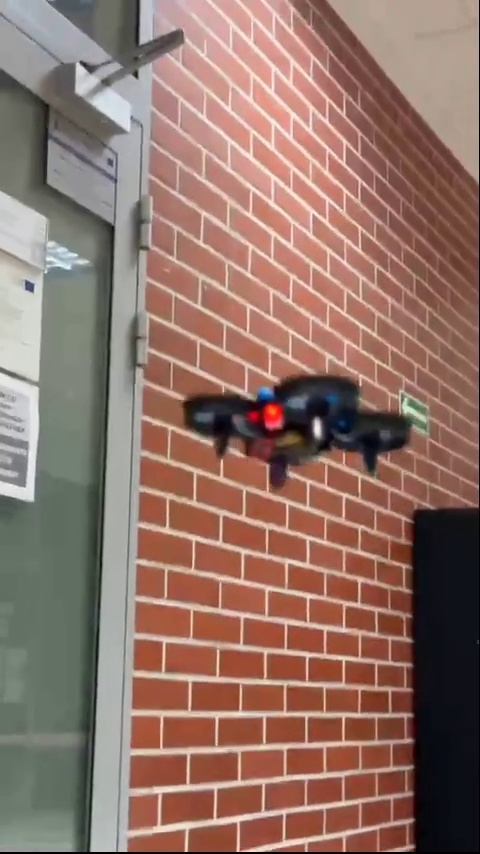drone: (182, 375, 403, 487)
